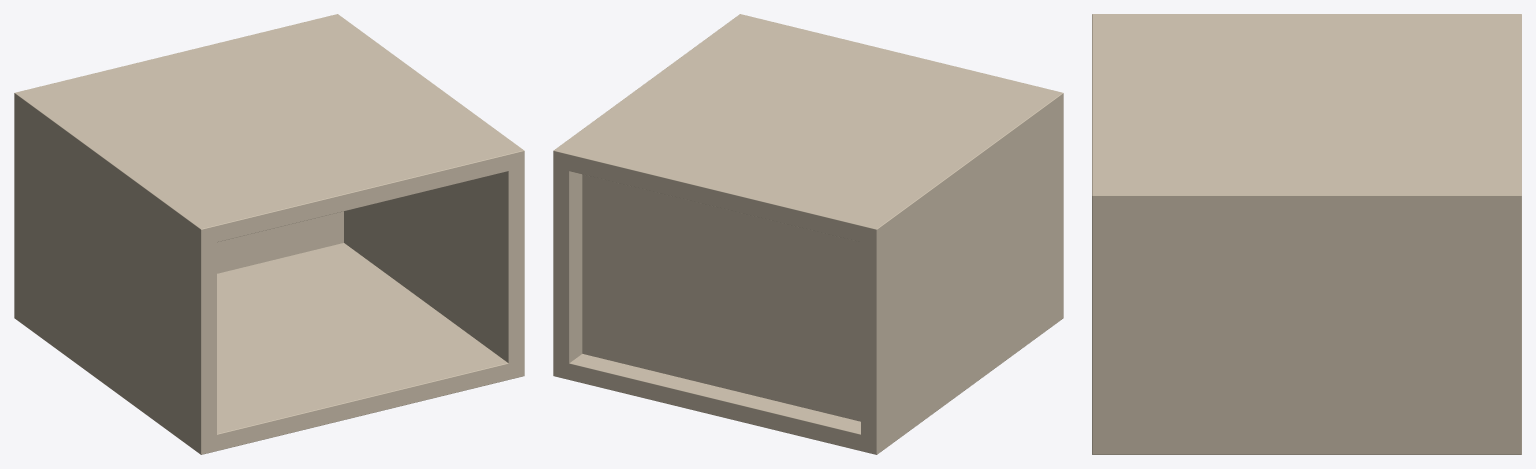
Rendered from MOD-1X07-A-B-AR.glb.
3 views of the same model, side by side, from view 1: azimuth 30°, elevation 25°; view 2: azimuth 150°, elevation 25°; view 3: azimuth 270°, elevation 25° (orthographic). The views are drawn at different scales.
Size of the model in its own units: 360 by 240 by 360.
